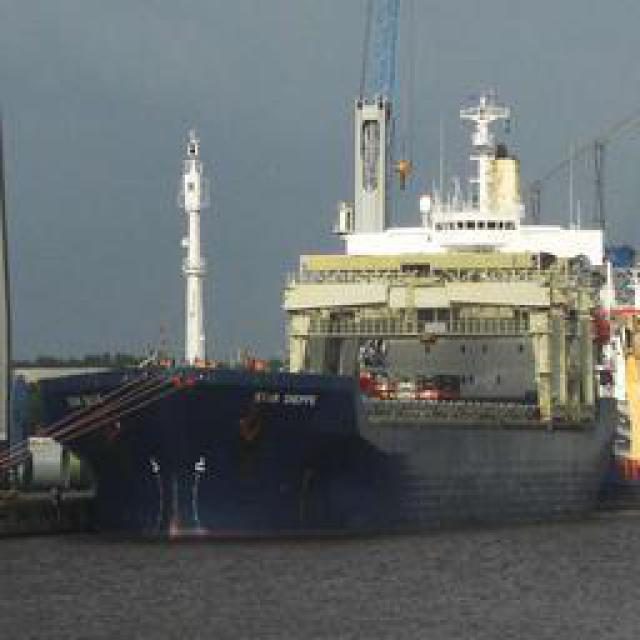Ship: (48, 55, 640, 558)
